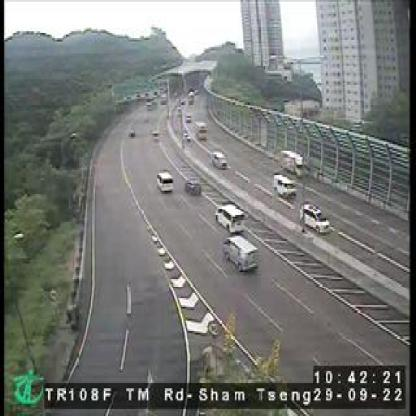Car: (220, 234, 260, 272), (299, 201, 330, 229), (215, 203, 243, 230), (271, 174, 295, 200), (154, 172, 176, 192), (210, 149, 228, 170), (184, 175, 202, 196), (148, 128, 161, 142), (127, 128, 136, 137), (185, 113, 191, 123)
Truck: (277, 146, 307, 176), (192, 120, 208, 138)
